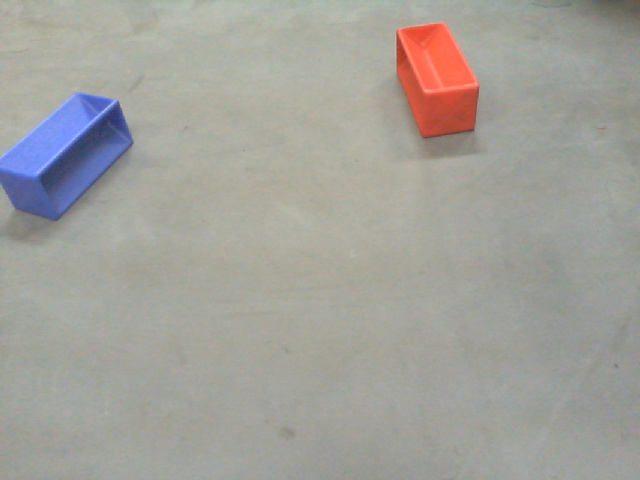BlueSample: (1, 84, 136, 225)
RedSample: (394, 22, 482, 146)
